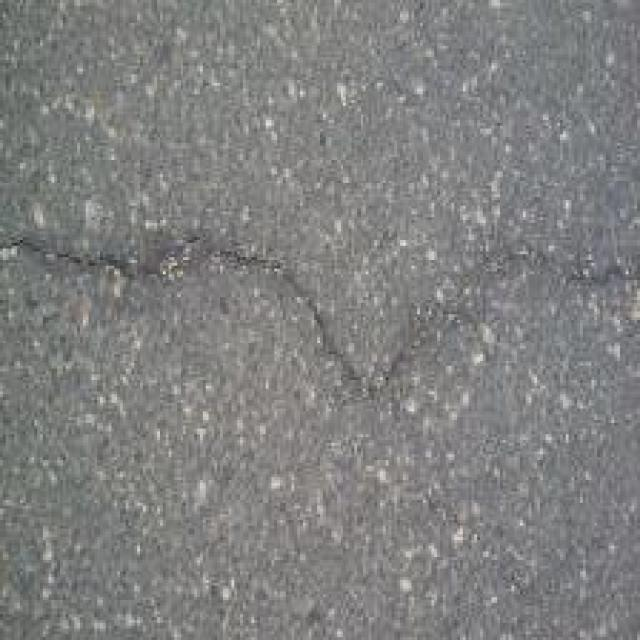crack: (24, 186, 640, 406)
